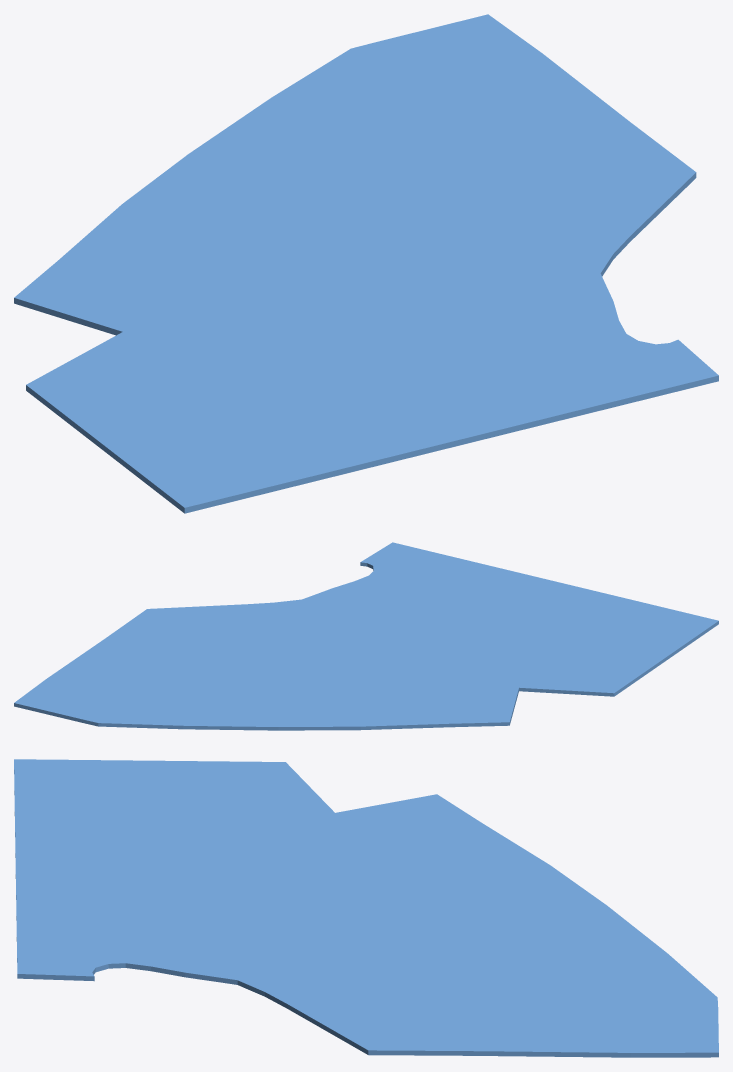
3 renders of one model, top to bottom at view 1: azimuth 30°, elevation 25°; view 2: azimuth 150°, elevation 25°; view 3: azimuth 270°, elevation 25°, orthographic. The views are drawn at different scales.
Bounding box in the file's own units: 405 × 3.05 × 411.
